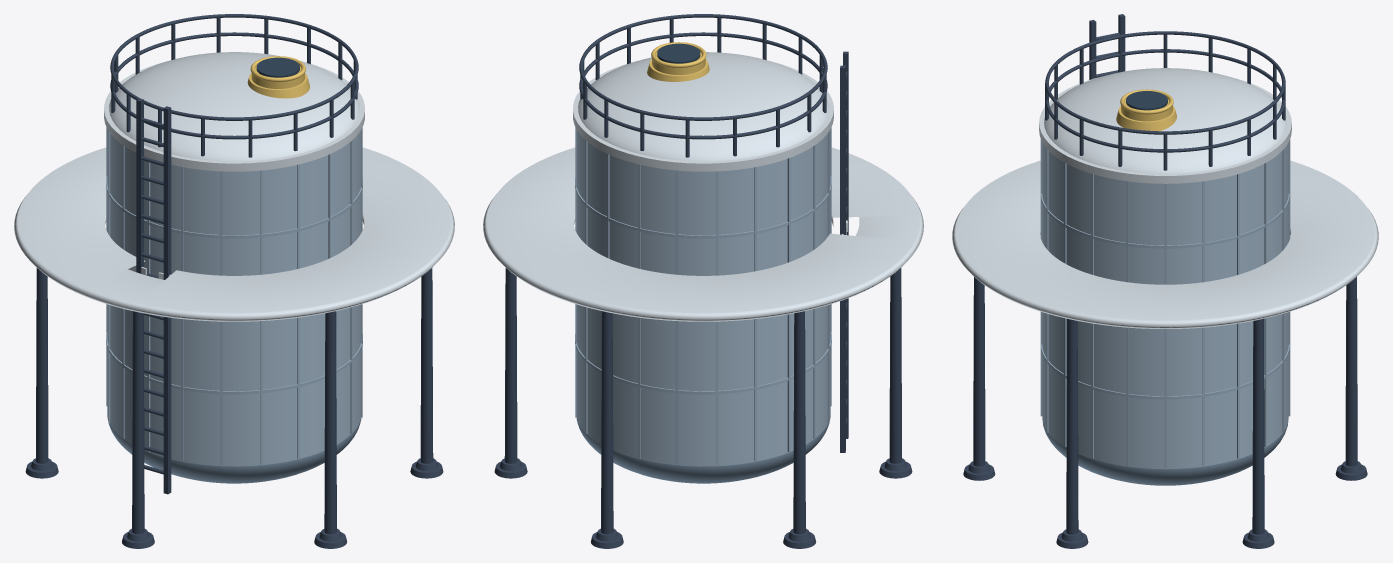
The model's file is compression.glb.
3 renders of one model, left to right at view 1: azimuth 30°, elevation 25°; view 2: azimuth 150°, elevation 25°; view 3: azimuth 270°, elevation 25°, orthographic. The views are drawn at different scales.
Visible parts, largest first — view 1: shell, walkway, roof, ladder, roof_rim, bottom_dome, leg_2, leg_1, leg_3, leg_0, rail_ring_1, rail_ring_0 (+13 smaller); view 2: shell, walkway, roof, roof_rim, bottom_dome, ladder, leg_3, leg_4, rail_ring_1, leg_2, leg_5, rail_ring_0 (+13 smaller); view 3: shell, walkway, roof, roof_rim, bottom_dome, leg_5, leg_0, rail_ring_1, leg_1, leg_4, rail_ring_0, band_1 (+15 smaller).
Boxes of the visible parts, x1=… form: shell: x1=107, y1=129, x2=360, y2=466; walkway: x1=14, y1=147, x2=454, y2=321; roof: x1=109, y1=52, x2=359, y2=161; ladder: x1=136, y1=98, x2=171, y2=494; roof_rim: x1=104, y1=61, x2=364, y2=171; bottom_dome: x1=107, y1=416, x2=361, y2=483; leg_2: x1=132, y1=311, x2=144, y2=534; leg_1: x1=324, y1=311, x2=336, y2=534; leg_3: x1=36, y1=268, x2=48, y2=463; leg_0: x1=420, y1=268, x2=433, y2=463; rail_ring_1: x1=110, y1=14, x2=358, y2=120; rail_ring_0: x1=110, y1=32, x2=358, y2=139; shell: x1=577, y1=129, x2=830, y2=466; walkway: x1=483, y1=147, x2=923, y2=321; roof: x1=578, y1=52, x2=828, y2=161; roof_rim: x1=573, y1=61, x2=833, y2=171; bottom_dome: x1=576, y1=416, x2=830, y2=483; ladder: x1=840, y1=51, x2=848, y2=452; leg_3: x1=793, y1=311, x2=805, y2=534; leg_4: x1=601, y1=311, x2=613, y2=534; rail_ring_1: x1=579, y1=14, x2=827, y2=120; leg_2: x1=889, y1=268, x2=901, y2=463; leg_5: x1=504, y1=268, x2=517, y2=463; rail_ring_0: x1=579, y1=32, x2=827, y2=139; shell: x1=1042, y1=142, x2=1288, y2=469; walkway: x1=952, y1=160, x2=1378, y2=328; roof: x1=1044, y1=68, x2=1286, y2=173; roof_rim: x1=1039, y1=77, x2=1291, y2=183; bottom_dome: x1=1043, y1=423, x2=1287, y2=485; leg_5: x1=1252, y1=318, x2=1264, y2=534; leg_0: x1=1066, y1=318, x2=1078, y2=534; rail_ring_1: x1=1045, y1=31, x2=1285, y2=134; leg_1: x1=973, y1=277, x2=985, y2=466; leg_4: x1=1345, y1=277, x2=1357, y2=466; rail_ring_0: x1=1045, y1=49, x2=1285, y2=152; band_1: x1=1041, y1=193, x2=1289, y2=248.
Bounding box in the file's own units: 6.92 × 7.22 × 6.92.
